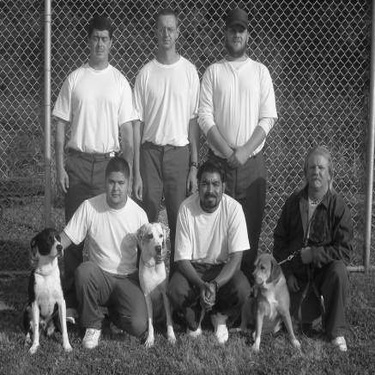dog: (217, 248, 319, 362), (121, 207, 198, 356), (9, 213, 78, 358)
